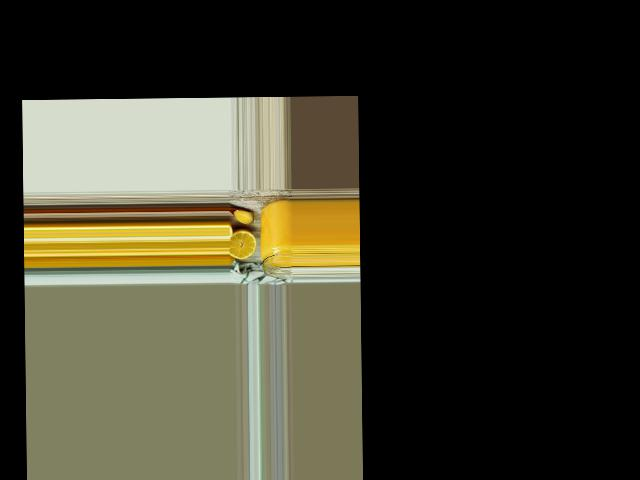lemon: (230, 229, 256, 260)
